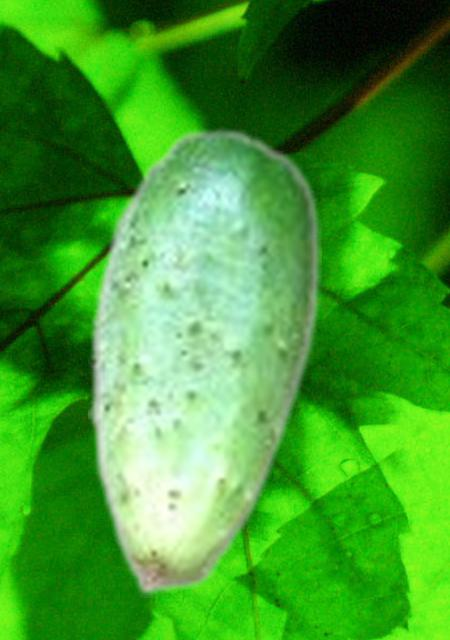cucumber: (88, 125, 320, 596)
